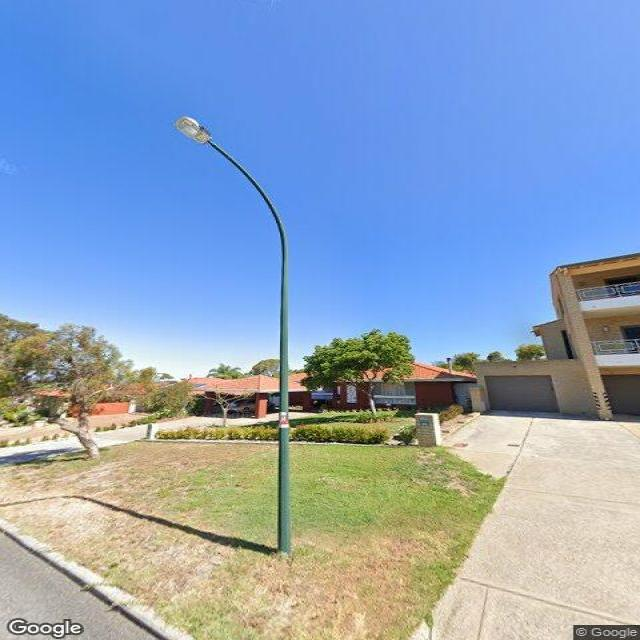steel-pole: (276, 238, 291, 561)
streetlight: (173, 116, 290, 246)
